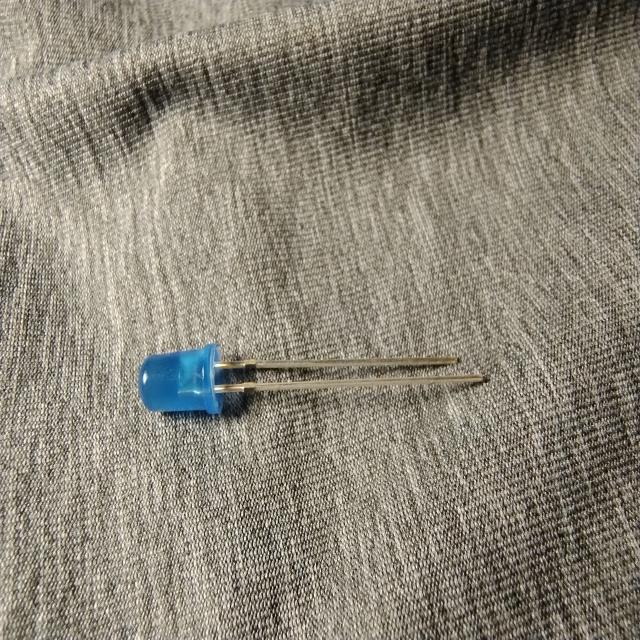blue_led: (137, 342, 489, 416)
